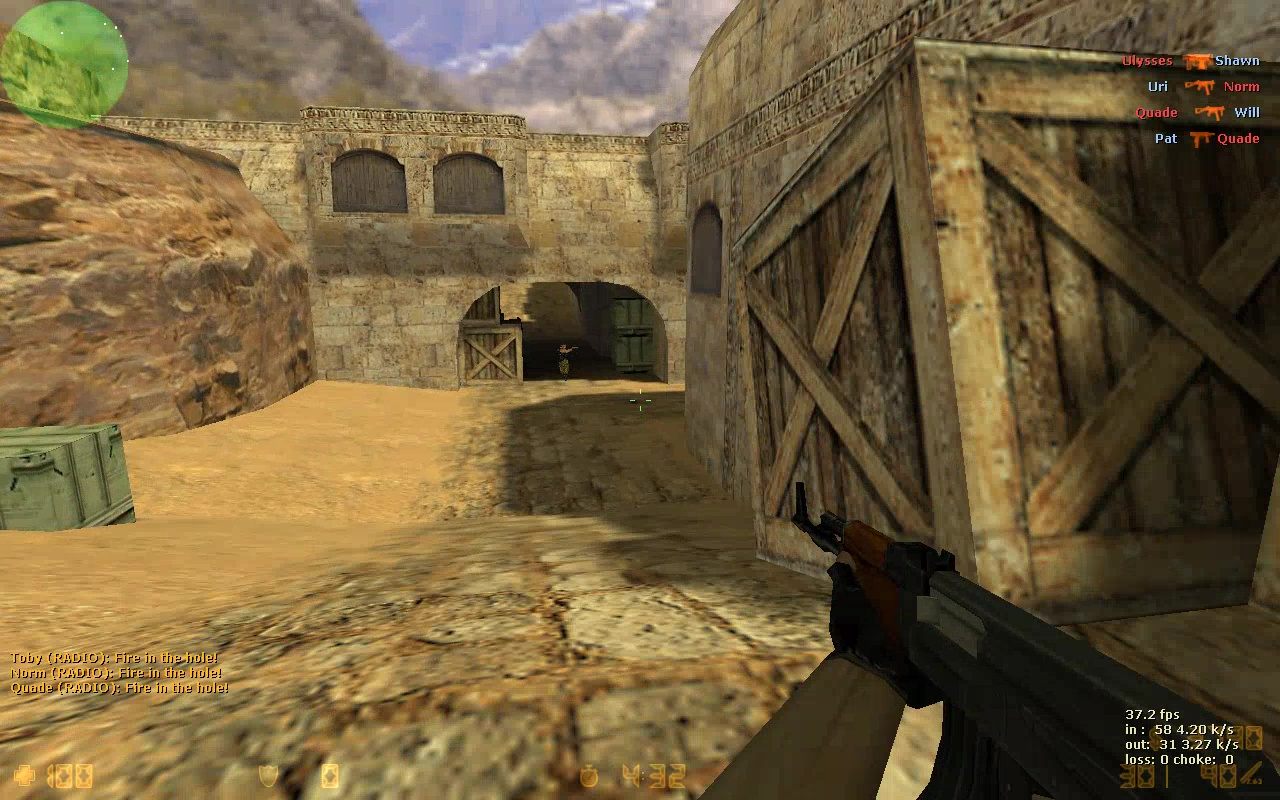terr1: (556, 342, 577, 381)
